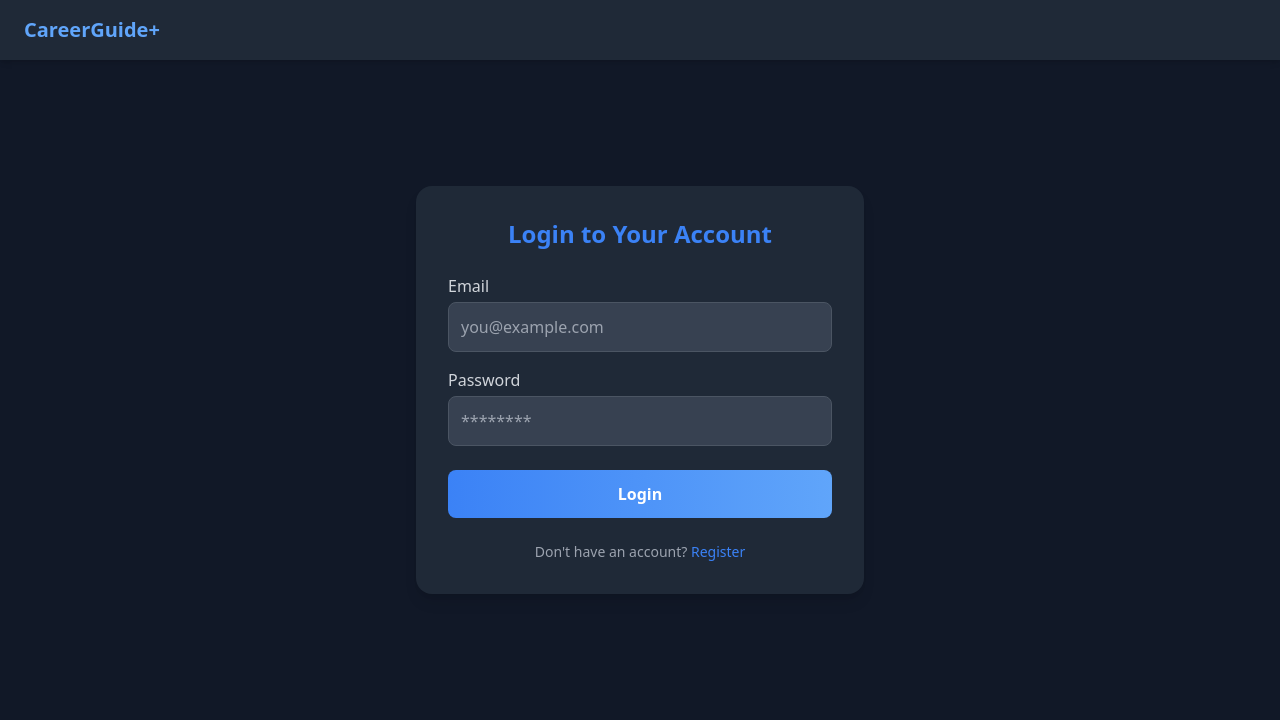
Login Page › shows generic error when backend fails without message
Type "fail@example.com" into the field with test id "email-input" at point(640, 327), box [448,302,832,352]
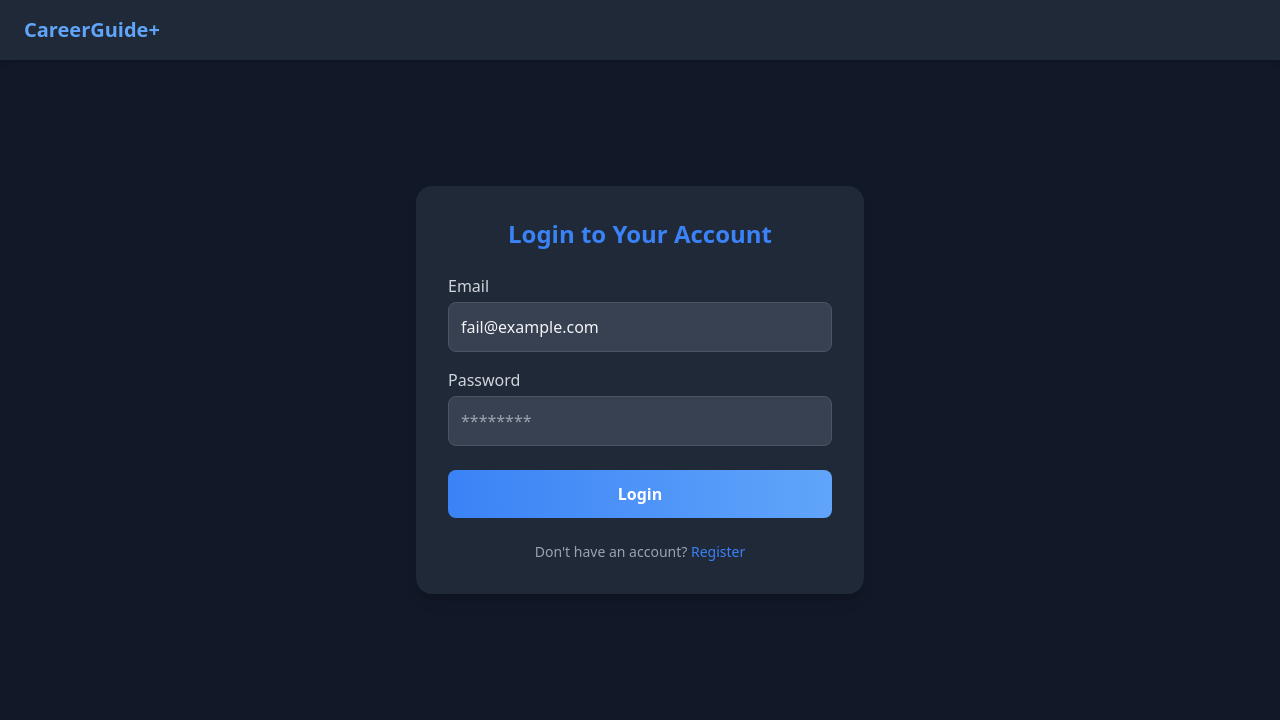
Type "123456" into the password field with test id "password-input" at point(640, 421), box [448,396,832,446]
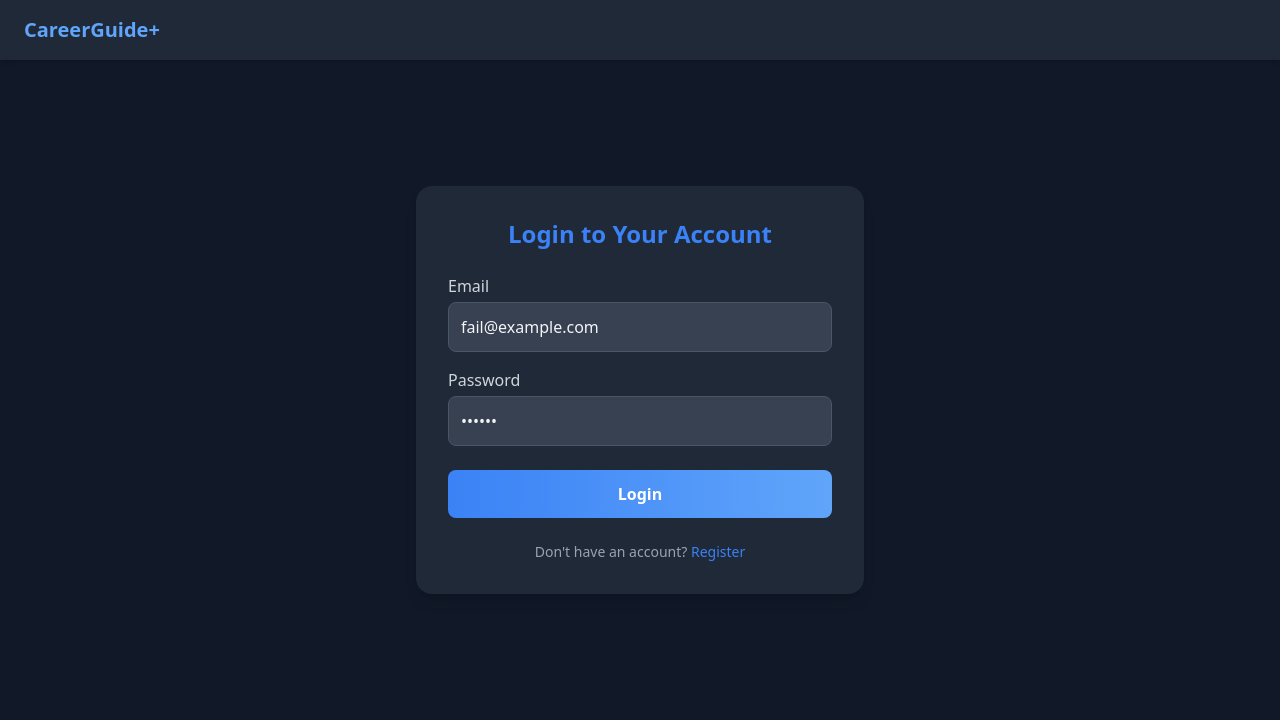
Click the button "Login" at point(640, 494), box [448,470,832,518]
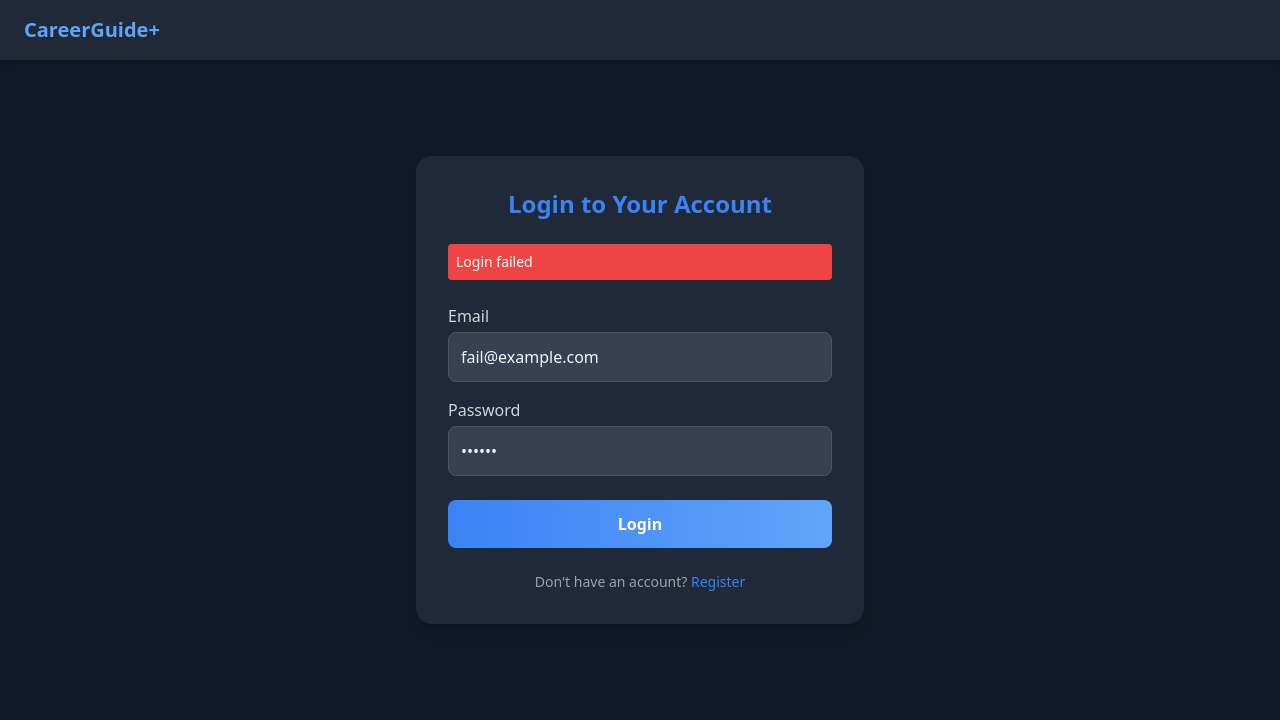
Result: the text "Login failed" is shown at [448,244,832,280]
